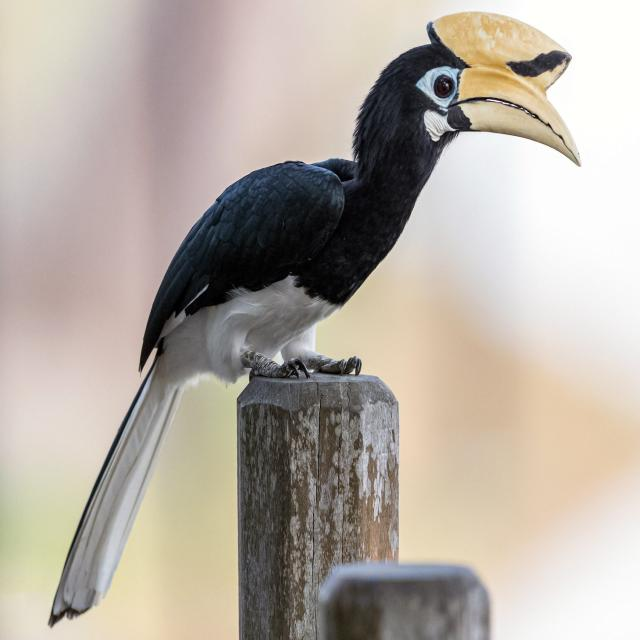Hornbill: (52, 9, 583, 612)
